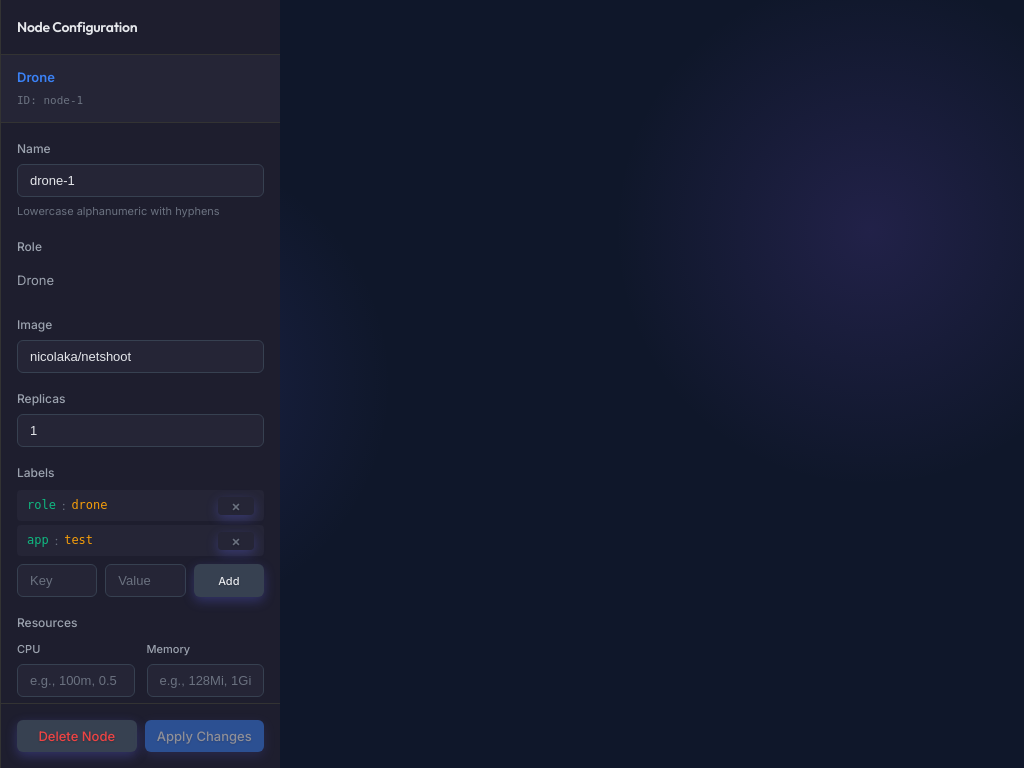
it: NodeConfigPanel › allows adding new labels
Type "env" into the field with placeholder "Key" at (57, 581), box x1=17 y1=564 x2=97 y2=598
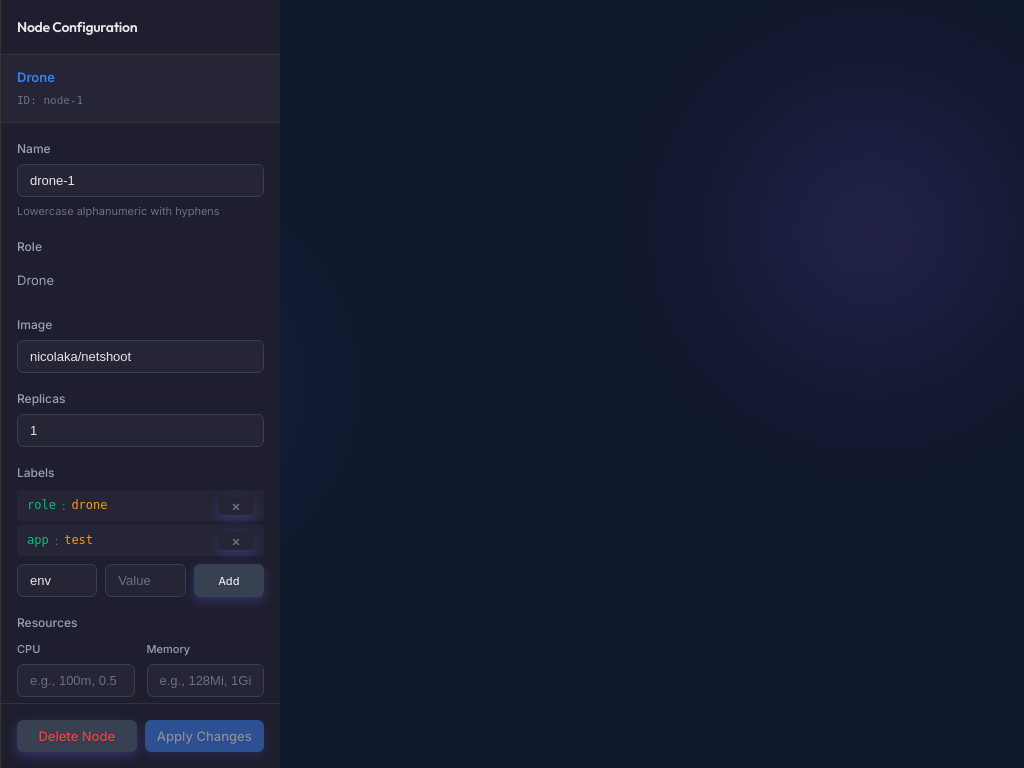
Type "production" into the field with placeholder "Value" at (145, 581), box x1=105 y1=564 x2=186 y2=598
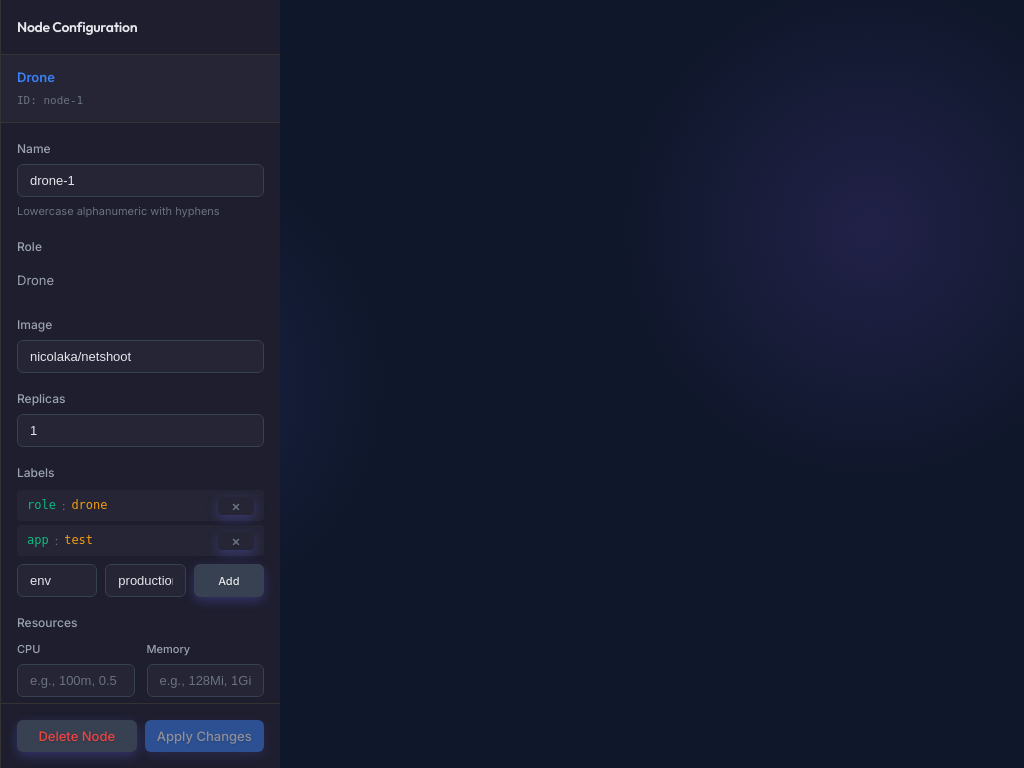
Click the button "Add" at (229, 581), box x1=194 y1=564 x2=264 y2=598
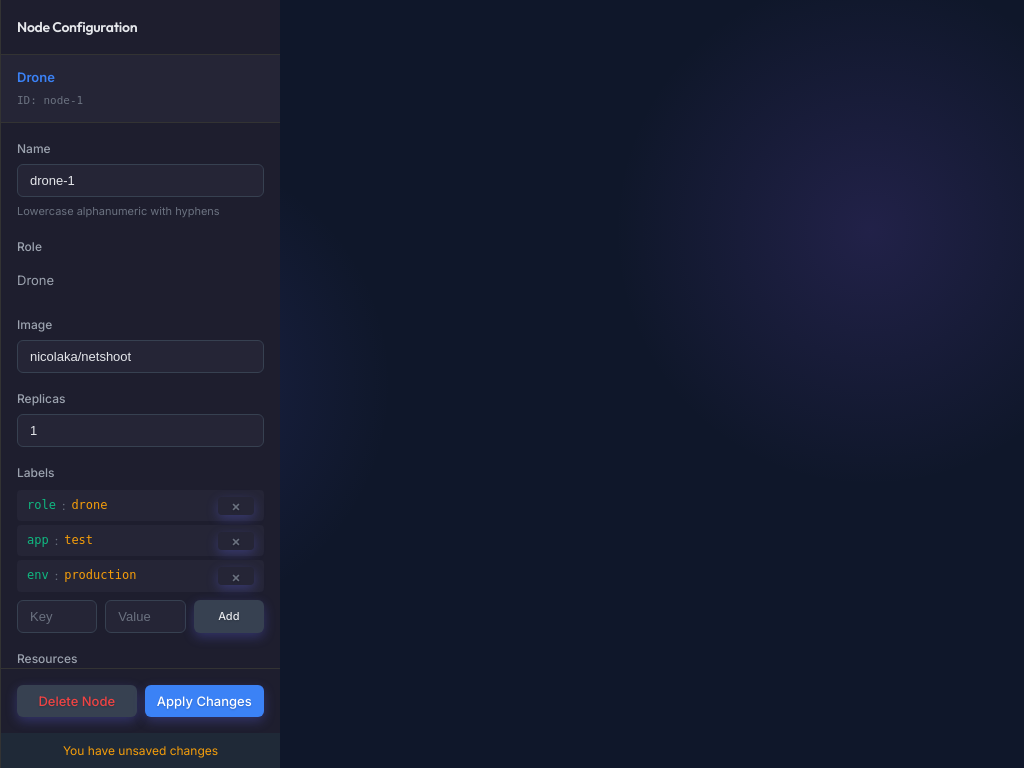
Expected: the text "env" is shown, x1=27 y1=566 x2=49 y2=586
Expected: the text "production" is shown, x1=64 y1=566 x2=136 y2=586
